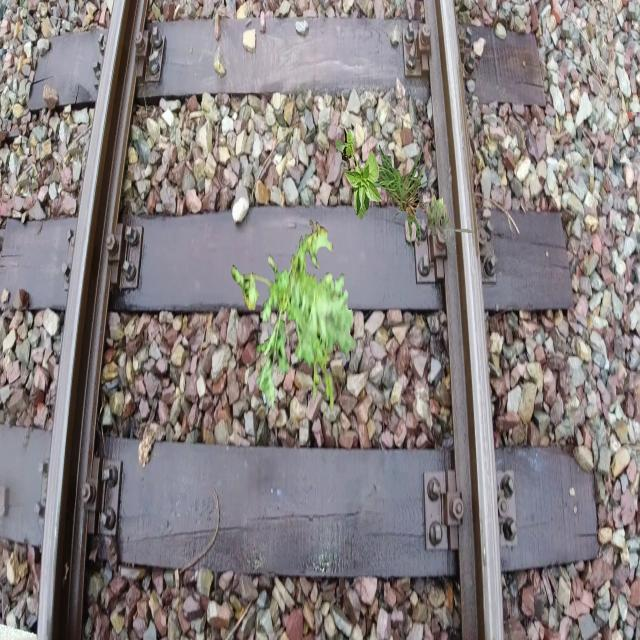Plant: (232, 220, 357, 416), (331, 144, 474, 264), (335, 126, 383, 221), (426, 194, 452, 236)
